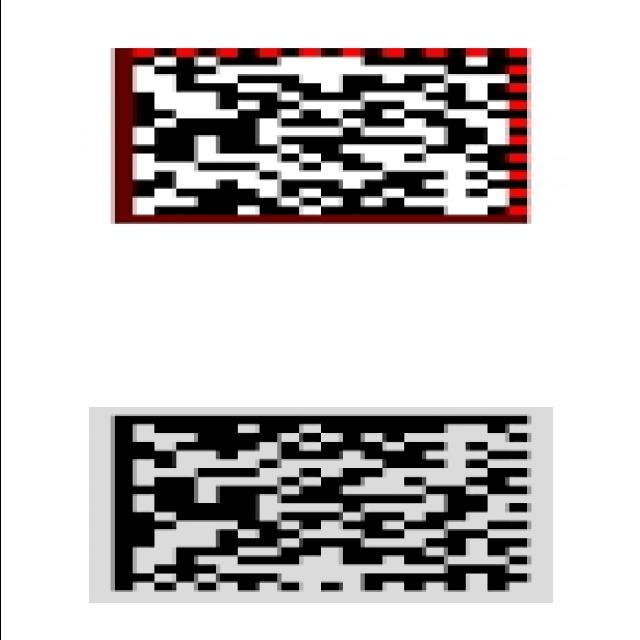DataMatrix: (88, 407, 552, 603)
